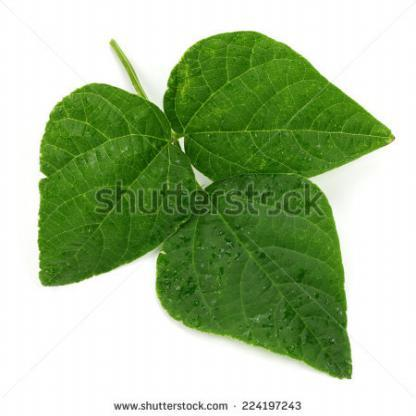Soyabean leaf: (151, 164, 358, 385), (162, 22, 400, 190), (33, 82, 197, 290)
